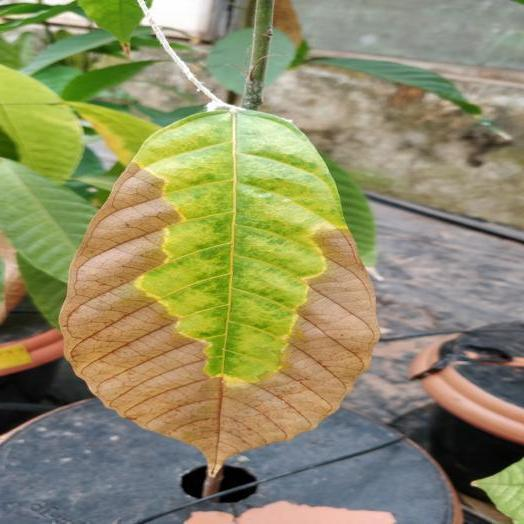Potassium: (60, 106, 378, 477)
